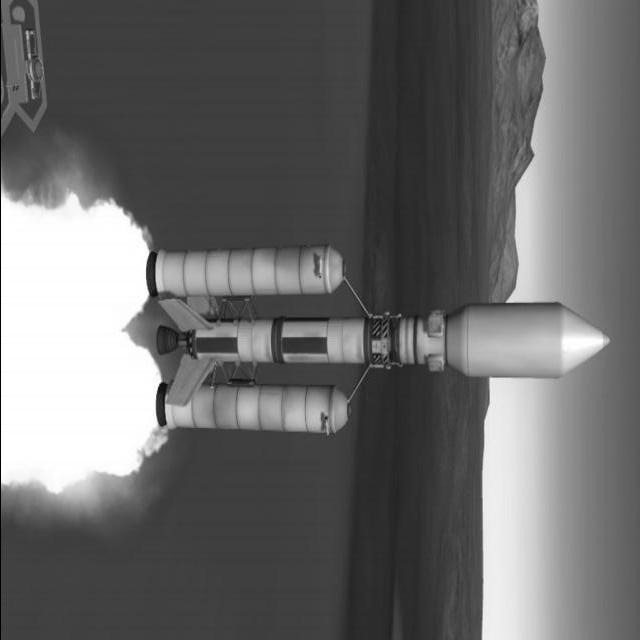Missile: (149, 295, 610, 400), (157, 378, 353, 439), (145, 244, 354, 297)
